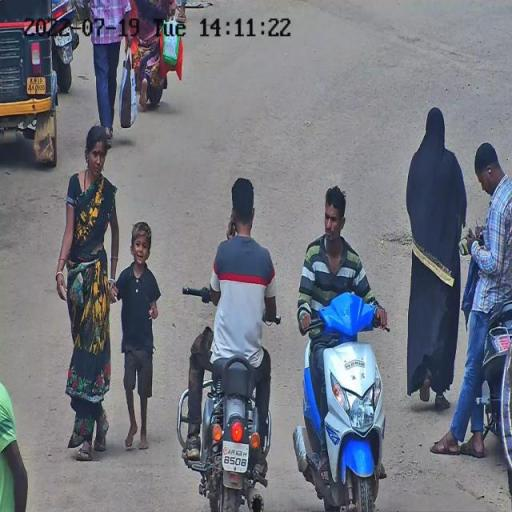using mobile: (226, 206, 236, 240)
